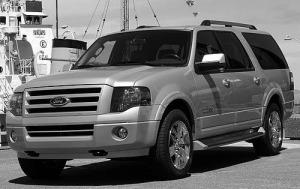car: (5, 18, 295, 178)
